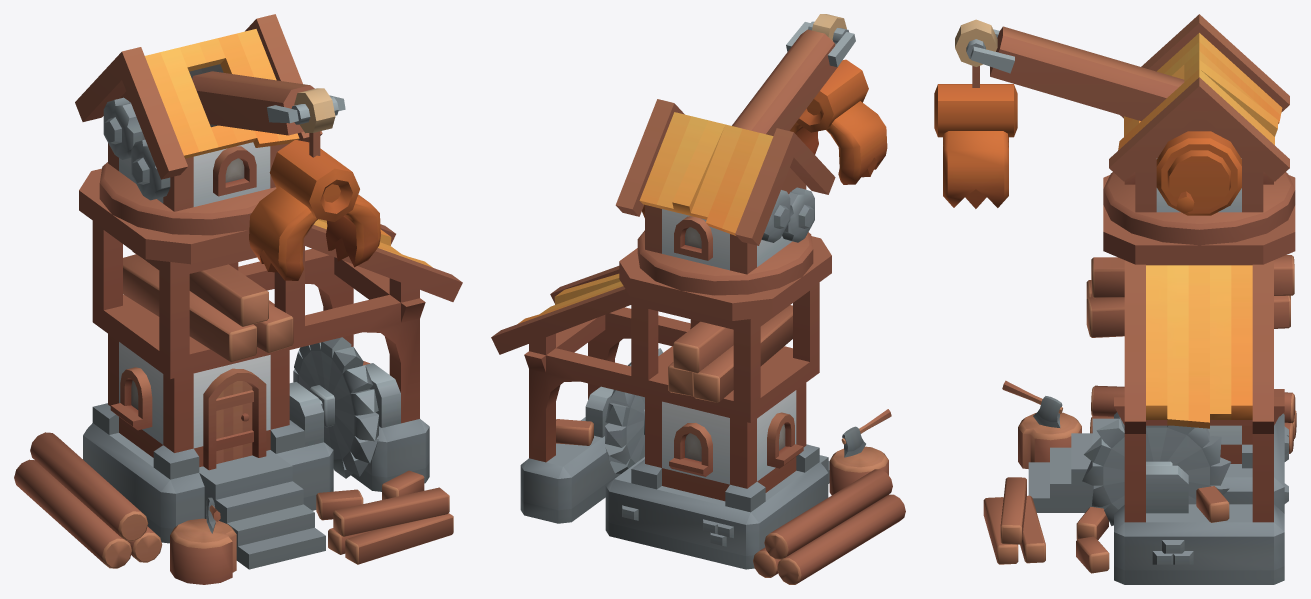
Rendered from building_lumbermill_yellow.glb.
3 views of the same model, side by side, from view 1: azimuth 30°, elevation 25°; view 2: azimuth 150°, elevation 25°; view 3: azimuth 270°, elevation 25° (orthographic). The views are drawn at different scales.
Visible parts, largest first — view 1: building_lumbermill_yellow, building_lumbermill_top_yellow, building_lumbermill_saw_yellow; view 2: building_lumbermill_yellow, building_lumbermill_top_yellow, building_lumbermill_saw_yellow; view 3: building_lumbermill_yellow, building_lumbermill_top_yellow, building_lumbermill_saw_yellow.
Boxes of the visible parts, left/top/right/bottom form: building_lumbermill_yellow: left=14, top=168, right=462, bottom=584; building_lumbermill_top_yellow: left=75, top=14, right=380, bottom=280; building_lumbermill_saw_yellow: left=293, top=337, right=378, bottom=478; building_lumbermill_yellow: left=491, top=236, right=905, bottom=584; building_lumbermill_top_yellow: left=615, top=14, right=887, bottom=295; building_lumbermill_saw_yellow: left=605, top=348, right=662, bottom=474; building_lumbermill_yellow: left=983, top=175, right=1296, bottom=584; building_lumbermill_top_yellow: left=934, top=14, right=1295, bottom=245; building_lumbermill_saw_yellow: left=1082, top=417, right=1231, bottom=525.
Bounding box in the file's own units: 1.37 × 1.71 × 1.19.
Materials: 1 (1 with a texture image).
